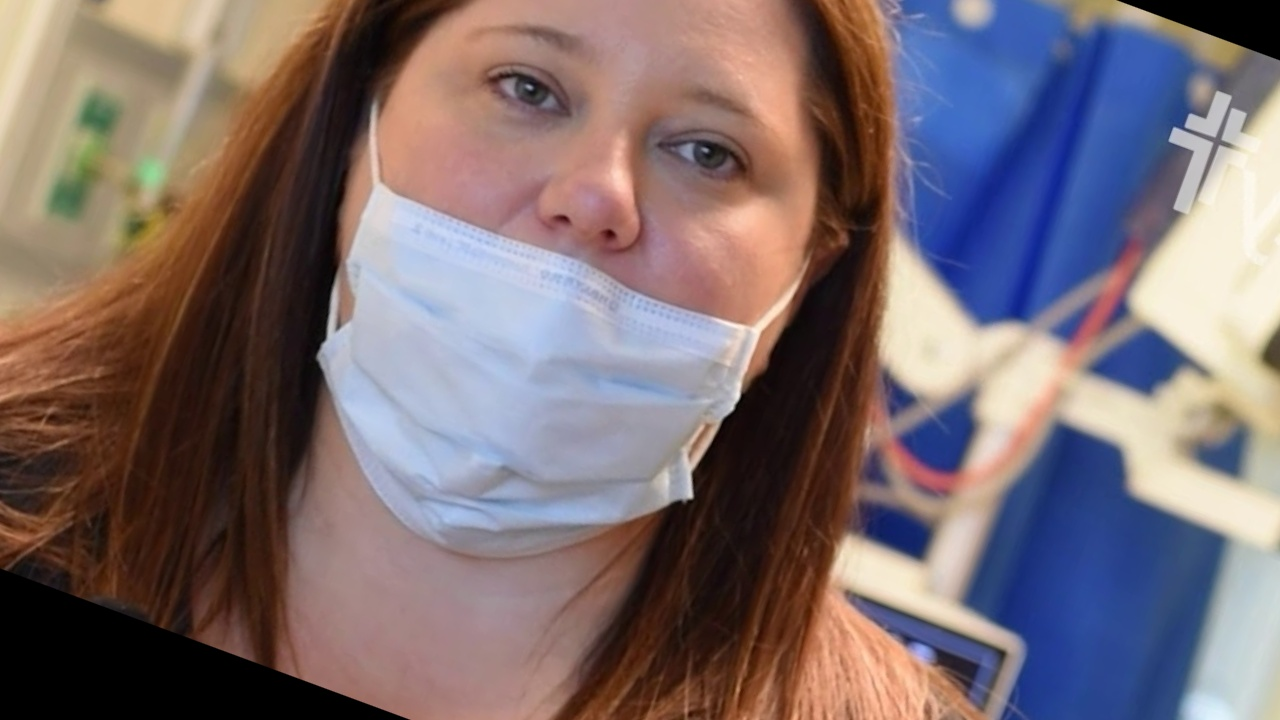mask_weared_incorrect: (346, 1, 808, 547)
